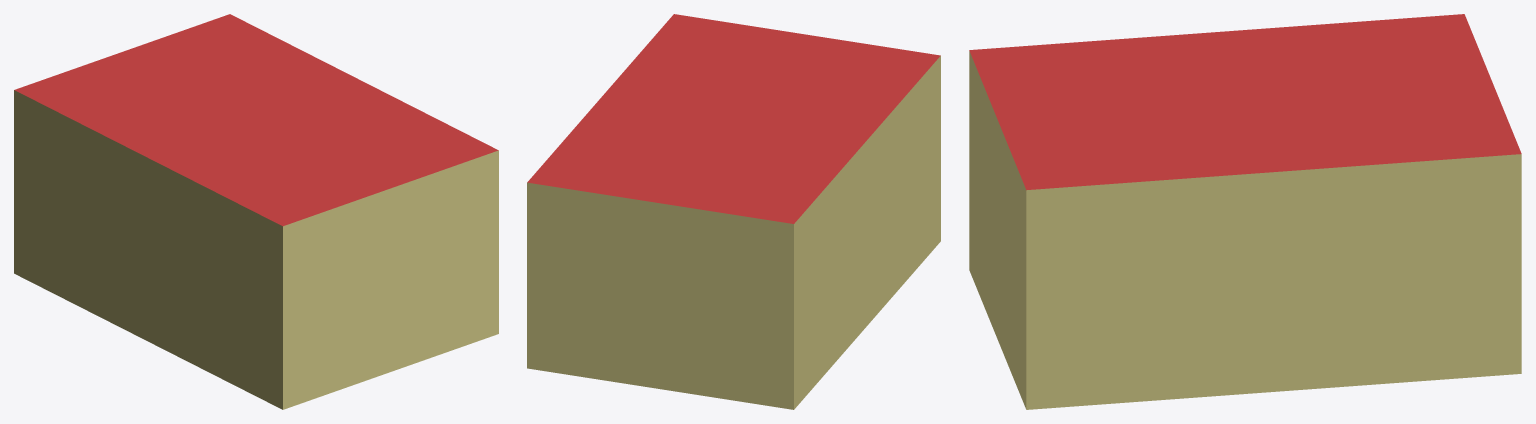
3 renders of one model, left to right at view 1: azimuth 30°, elevation 25°; view 2: azimuth 150°, elevation 25°; view 3: azimuth 270°, elevation 25°, orthographic. The views are drawn at different scales.
Bounding box in the file's own units: 10.37 × 13.74 × 6.03.
